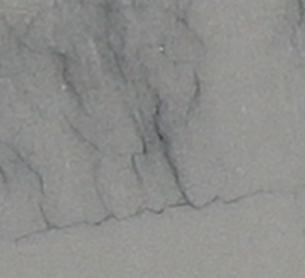fissura: (9, 0, 259, 256)
